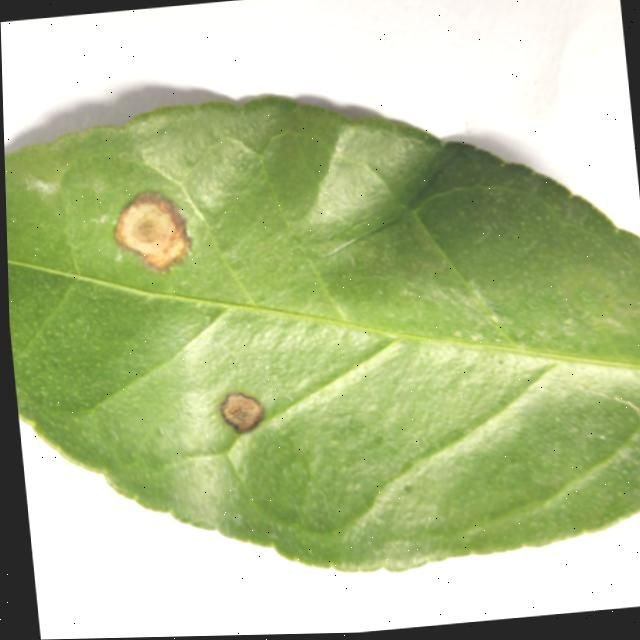antracnose: (5, 98, 640, 569), (114, 192, 191, 271), (220, 392, 263, 432)
